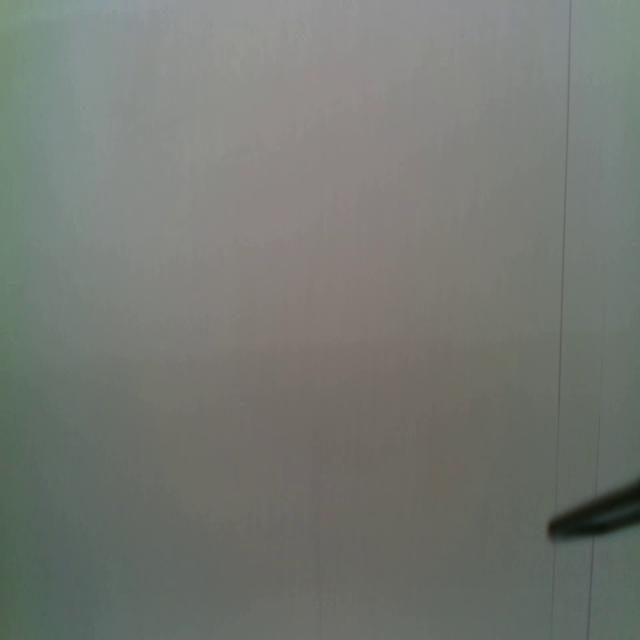crease: (554, 0, 574, 510), (593, 302, 608, 494), (546, 547, 560, 640), (584, 540, 595, 640)
